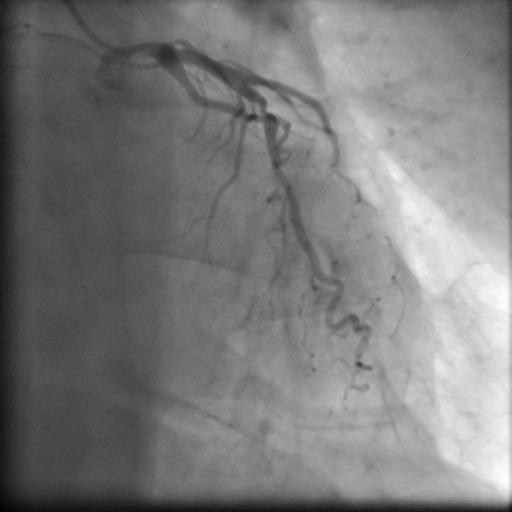Stenosis: (248, 108, 274, 130)
